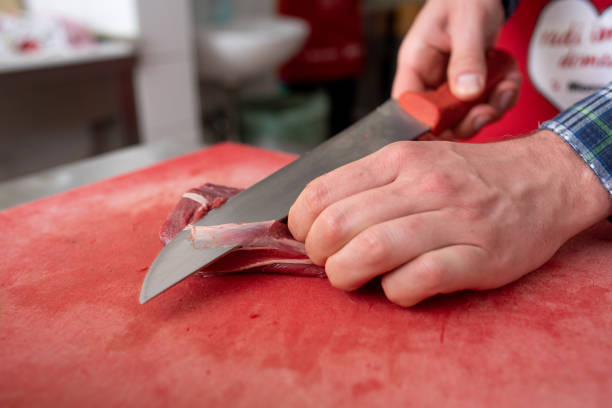knife: (133, 43, 522, 306)
